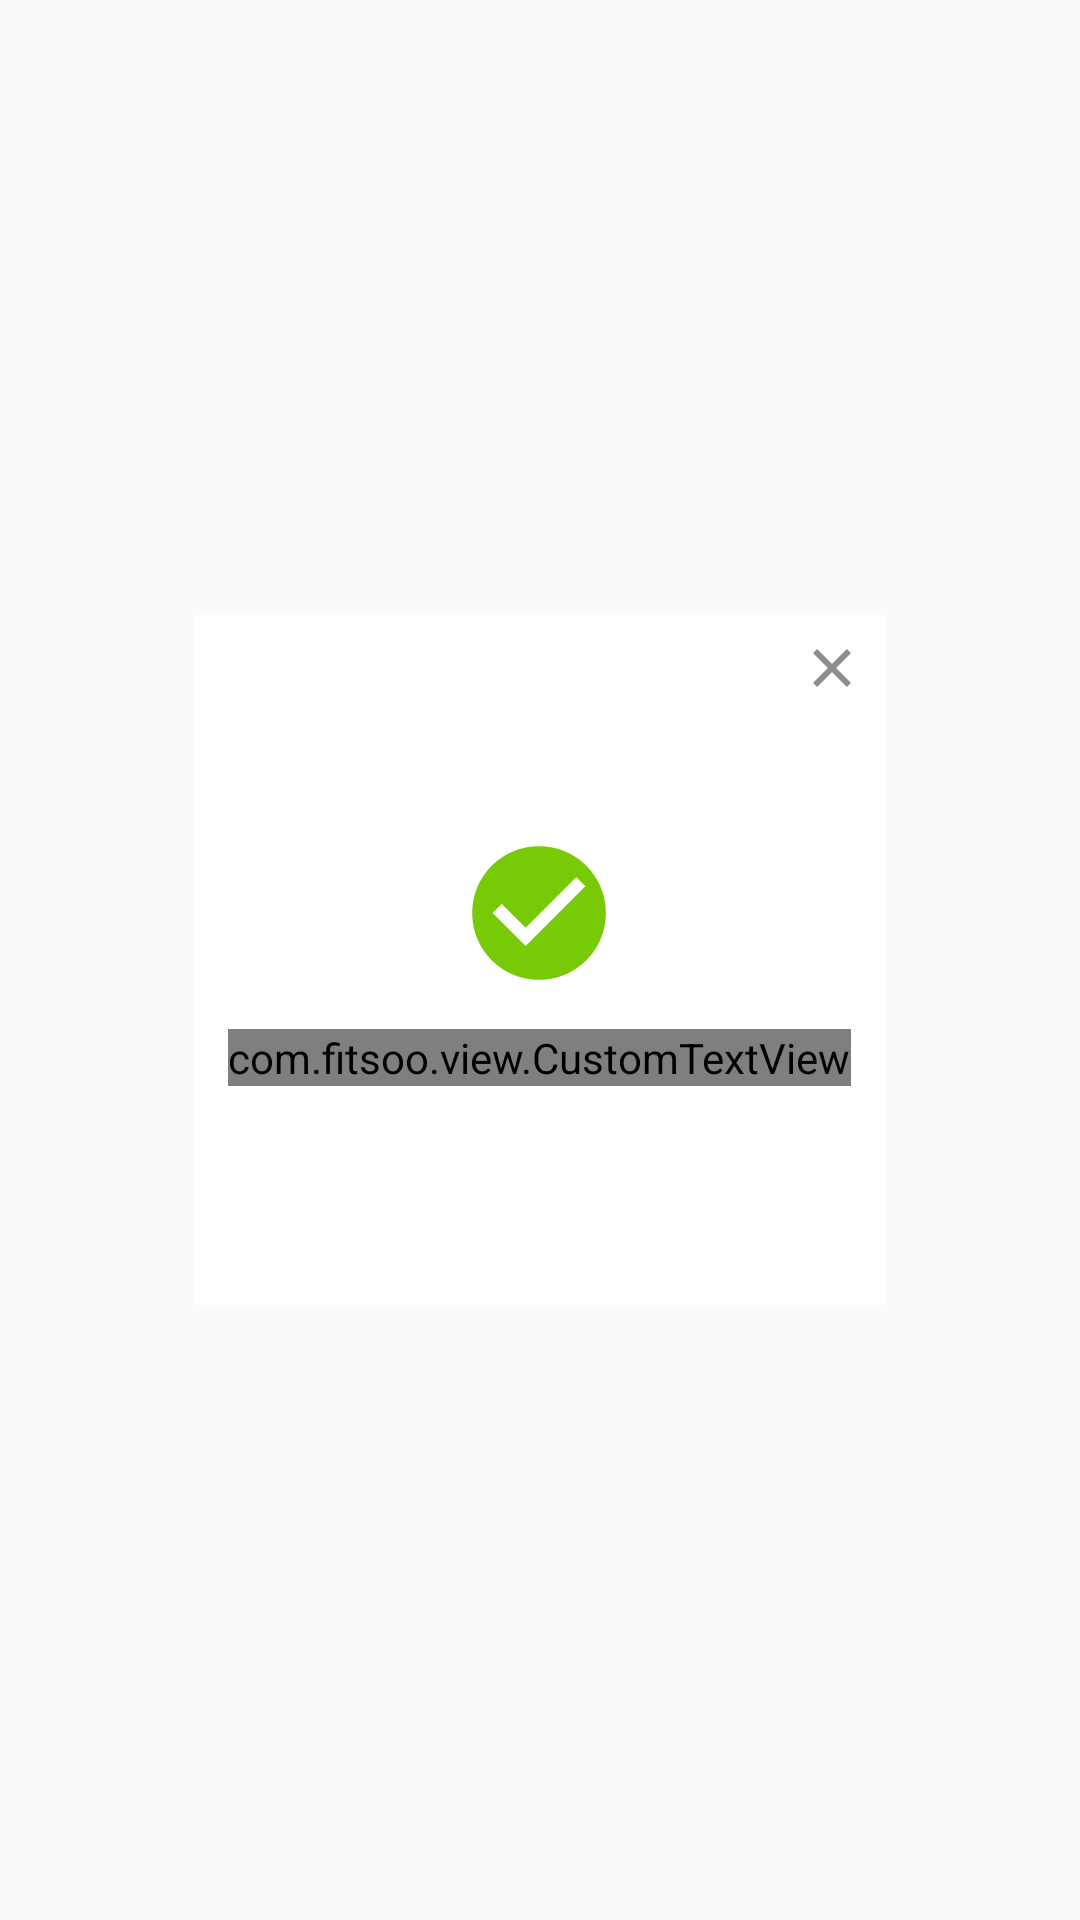

Point at icon controls on the screen. Image size 1080px x 1920px, points as (x=x, y=y).
close: (x=832, y=668)
tick: (x=539, y=913)
